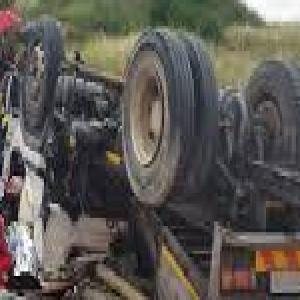severe: (0, 10, 300, 300)
